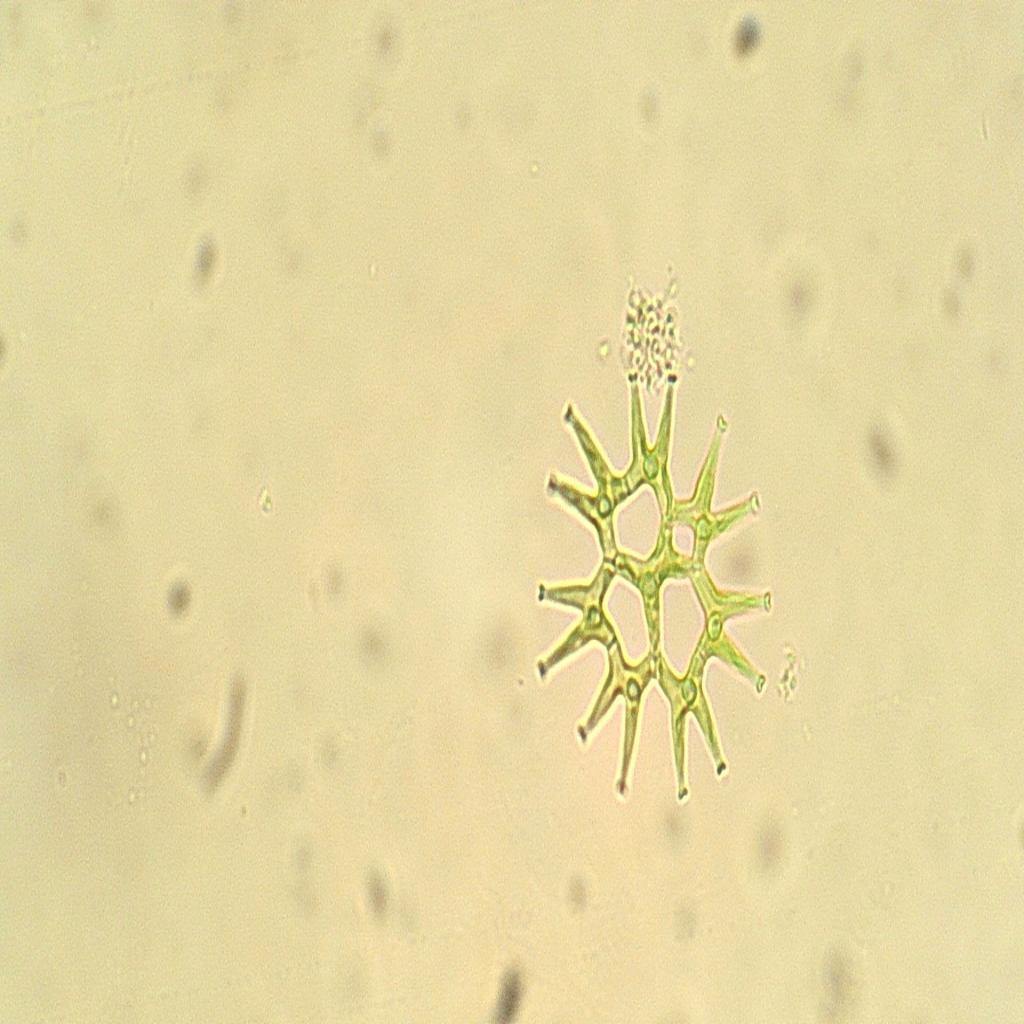Pediastrum_75T: (518, 349, 802, 832)
